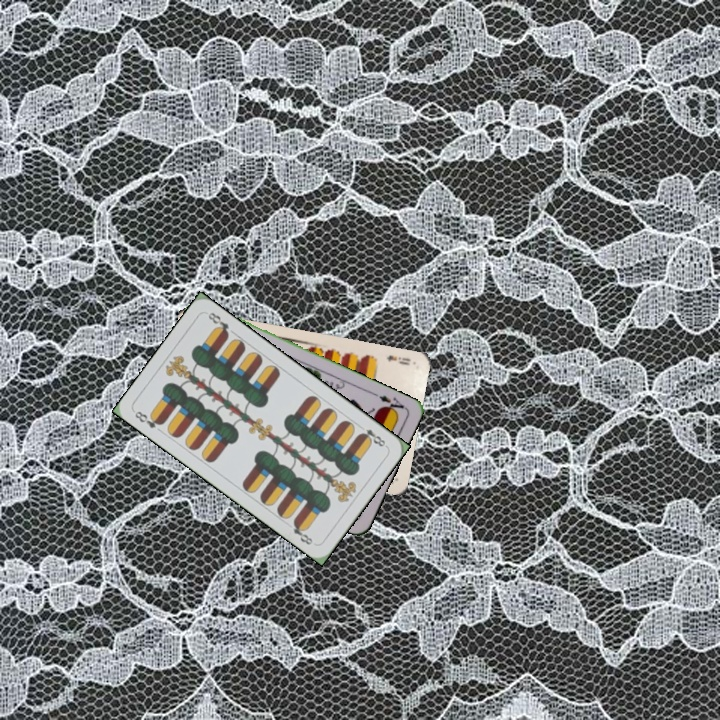E8: (355, 425, 389, 450), (131, 407, 166, 431)
E9: (383, 351, 413, 368)
EA: (375, 391, 408, 416)
